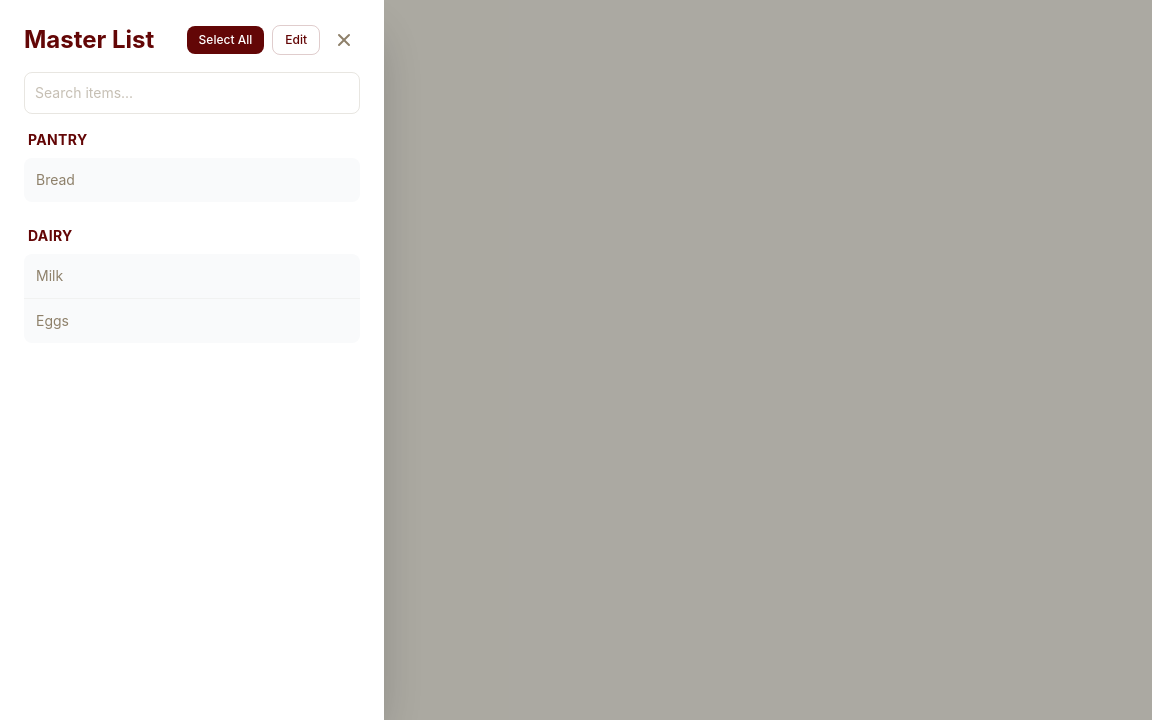
MasterList — edit mode › clicking Edit toggles to edit mode
Click the button "Edit" at (296, 40), box [272, 25, 320, 55]
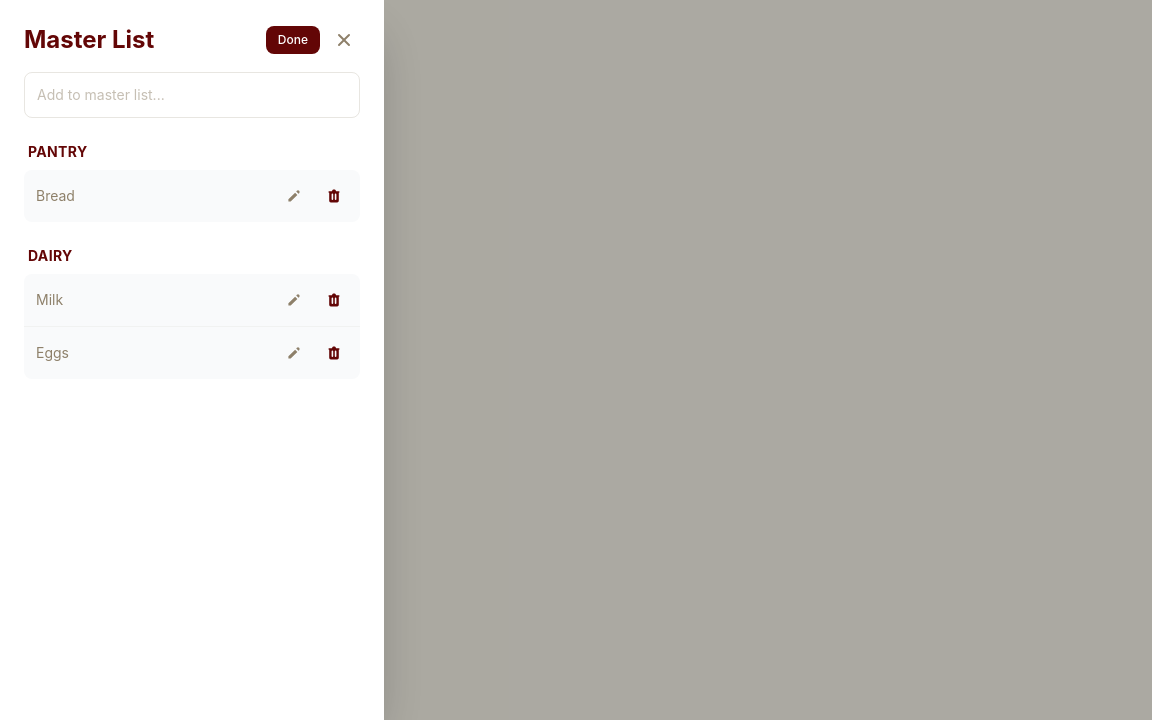
expect the field with placeholder "Add to master list..." is shown: met, box [24, 72, 360, 118]
